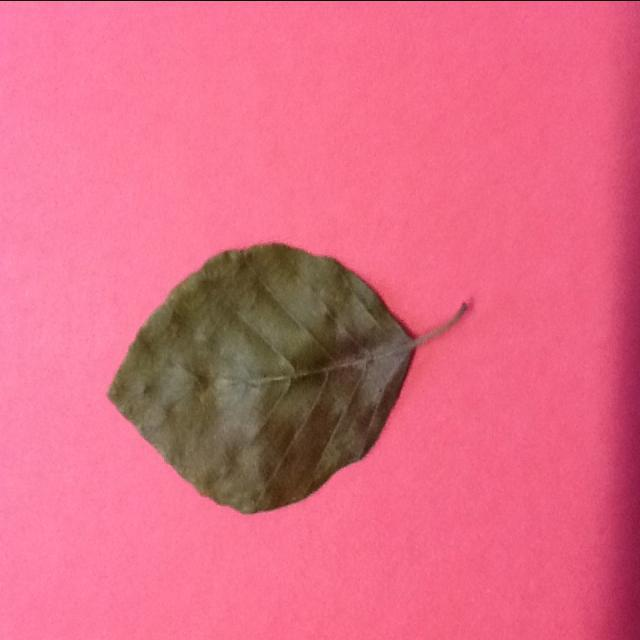foliage: (105, 240, 468, 516)
